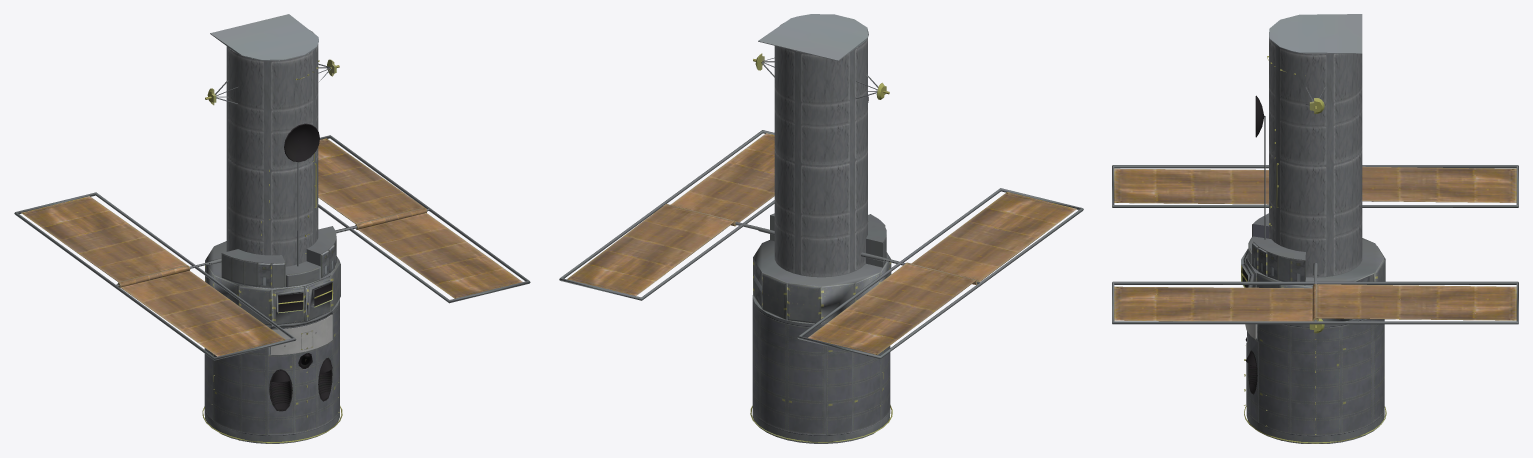
File: hubble.glb
The picture shows the model from 3 angles, left to right: view 1: azimuth 30°, elevation 25°; view 2: azimuth 150°, elevation 25°; view 3: azimuth 270°, elevation 25°; orthographic projection.
Parts seen in each view (by area): view 1: hst; view 2: hst; view 3: hst.
Part boxes in pixels (x1=…): hst: x1=14, y1=14, x2=530, y2=443; hst: x1=559, y1=14, x2=1083, y2=443; hst: x1=1112, y1=14, x2=1518, y2=443.
Size of the model in its own units: 458 by 525 by 501.
Materials: 5 (5 with a texture image).
